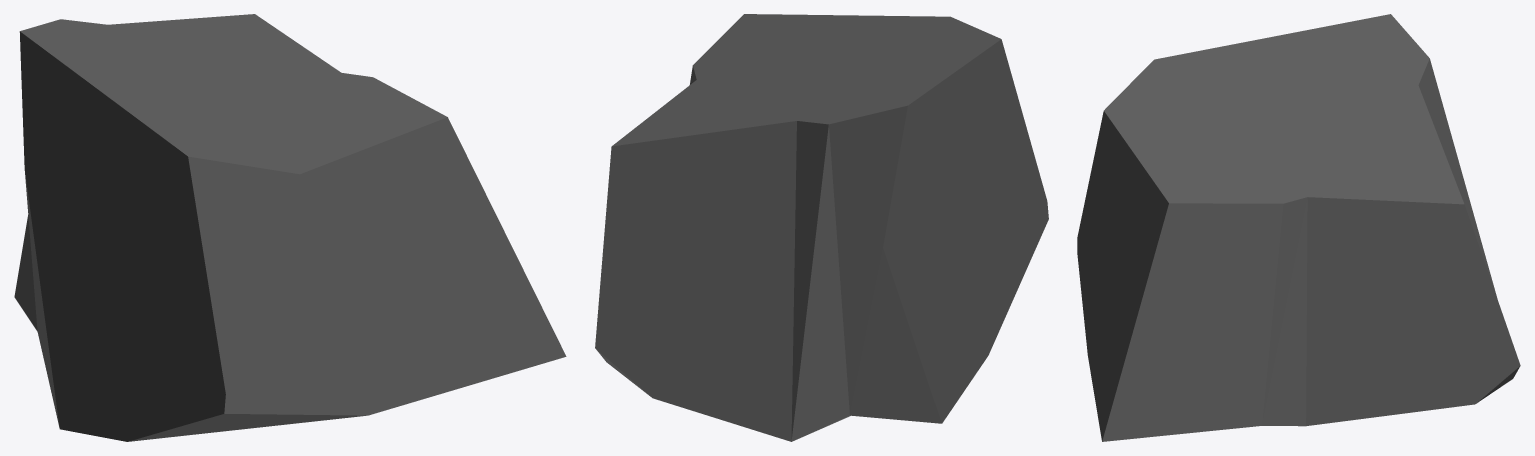
Rendered from Rock_1.fbx.
3 views of the same model, side by side, from view 1: azimuth 30°, elevation 25°; view 2: azimuth 150°, elevation 25°; view 3: azimuth 270°, elevation 25° (orthographic). The views are drawn at different scales.
Visible parts, largest first — view 1: M_Rock 1; view 2: M_Rock 1; view 3: M_Rock 1.
Boxes of the visible parts, x1,y1,x2,y2 form: M_Rock 1: (14, 14, 566, 441); M_Rock 1: (595, 14, 1048, 441); M_Rock 1: (1077, 14, 1520, 441).
Size of the model in its own units: 74.92 by 69.28 by 85.27.
Materials: 1 (1 with a texture image).
